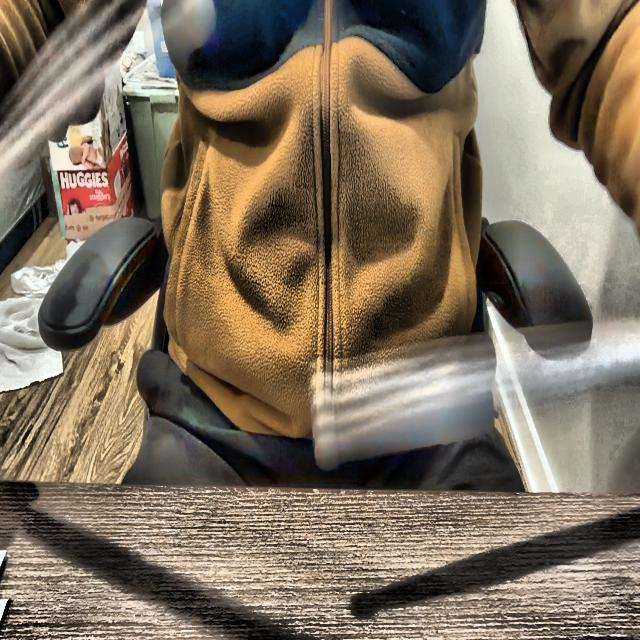Drumstick-Heads: (313, 369, 340, 461)
